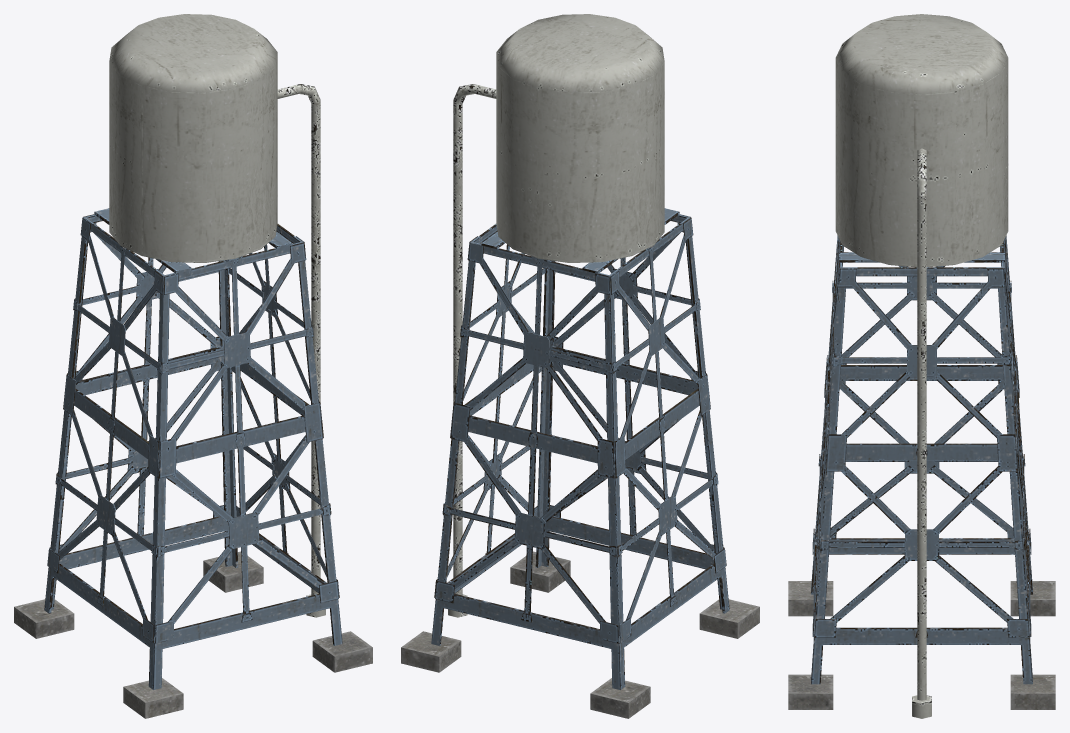
The model's file is jctRoofTankA.fbx.
3 renders of one model, left to right at view 1: azimuth 30°, elevation 25°; view 2: azimuth 150°, elevation 25°; view 3: azimuth 270°, elevation 25°, orthographic.
Visible parts, largest first — view 1: jctRoofTankA; view 2: jctRoofTankA; view 3: jctRoofTankA.
Boxes of the visible parts, x1,y1,x2,y2 form: jctRoofTankA: (14,14,372,718); jctRoofTankA: (401,14,759,718); jctRoofTankA: (788,14,1055,718).
Bounding box in the file's own units: 321 × 748 × 297.
